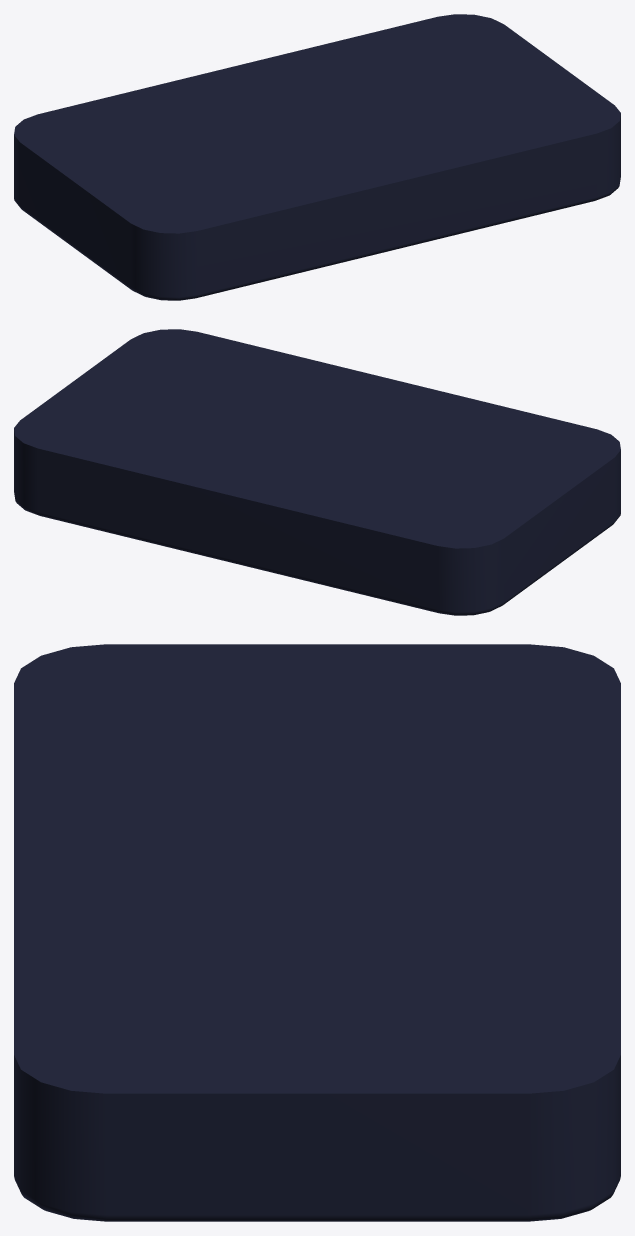
File: lamp unbroken co.fbx
The picture shows the model from 3 angles, top to bottom: view 1: azimuth 30°, elevation 25°; view 2: azimuth 150°, elevation 25°; view 3: azimuth 270°, elevation 25°; orthographic projection. The views are drawn at different scales.
Parts seen in each view (by area): view 1: body; view 2: body; view 3: body.
Boxes of the visible parts, x1,y1,x2,y2 form: body: [14, 14, 620, 300]; body: [14, 329, 620, 615]; body: [14, 644, 620, 1221].
Size of the model in its own units: 21.46 by 2.93 by 12.24.
